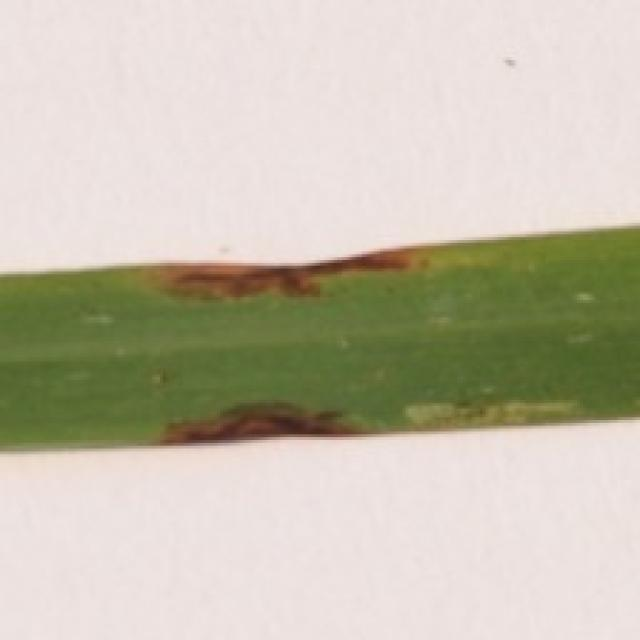Rice___Brown_Spot: (1, 226, 637, 455)
